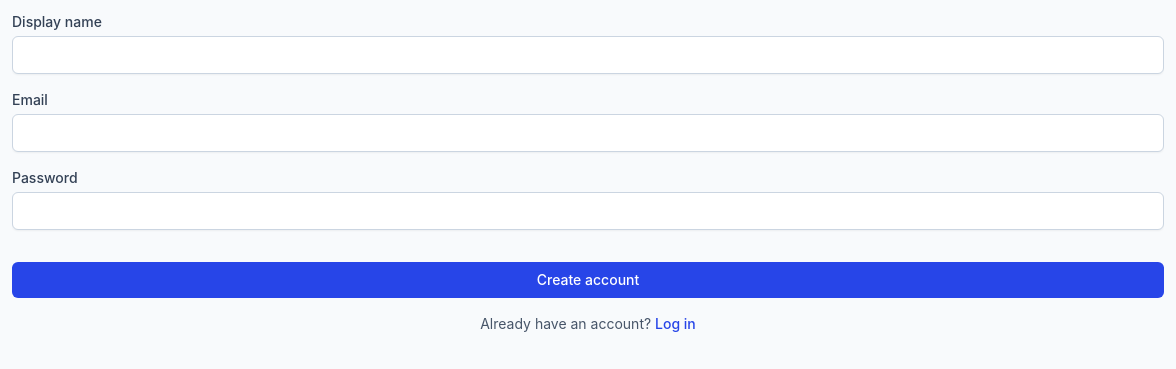
it: RegisterForm › shows an error for a password under 8 characters
This screenshot has width=1176, height=369.
In the field labelled "Display name": coordinates (588, 55) x1=12 y1=36 x2=1164 y2=74, type "Test User"
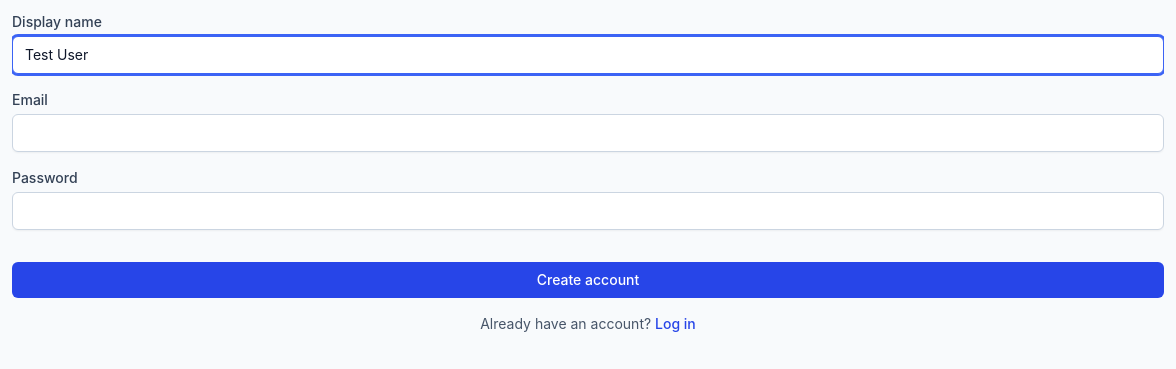
In the field labelled "Email": coordinates (588, 133) x1=12 y1=114 x2=1164 y2=152, type "test@example.com"
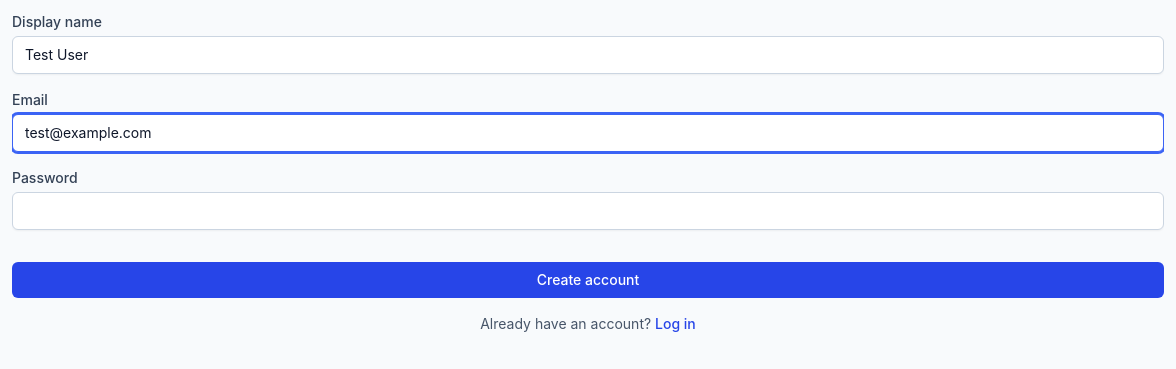
In the password field labelled "Password": coordinates (588, 211) x1=12 y1=192 x2=1164 y2=230, type "short"
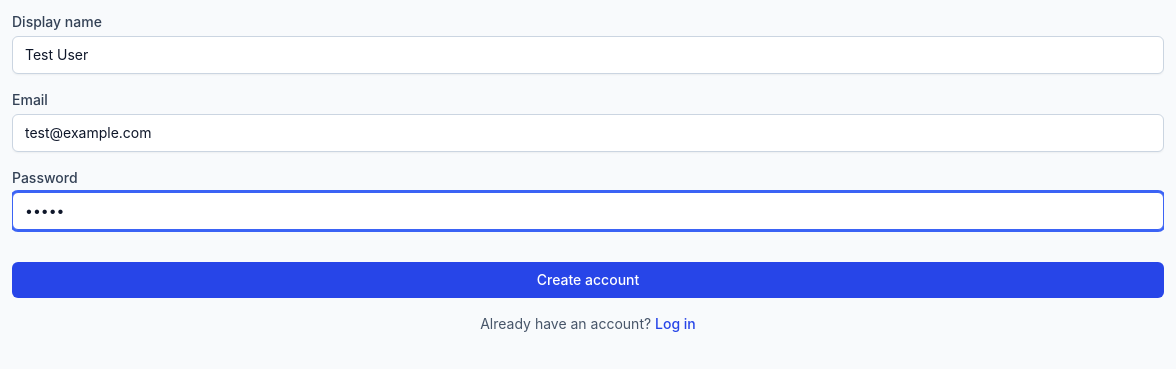
Click the button "Create account": coordinates (588, 280) x1=12 y1=262 x2=1164 y2=298
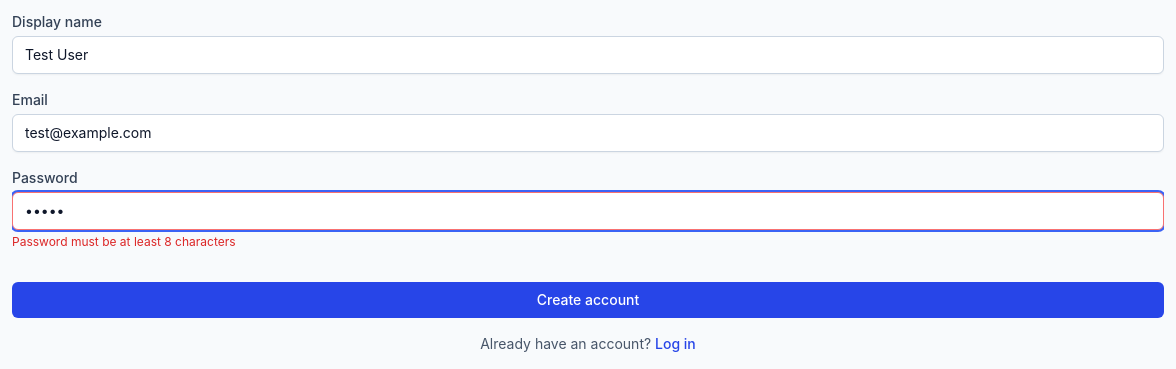
expect the text "Password must be at least 8 characters" is shown: met, box x1=12 y1=234 x2=236 y2=249
